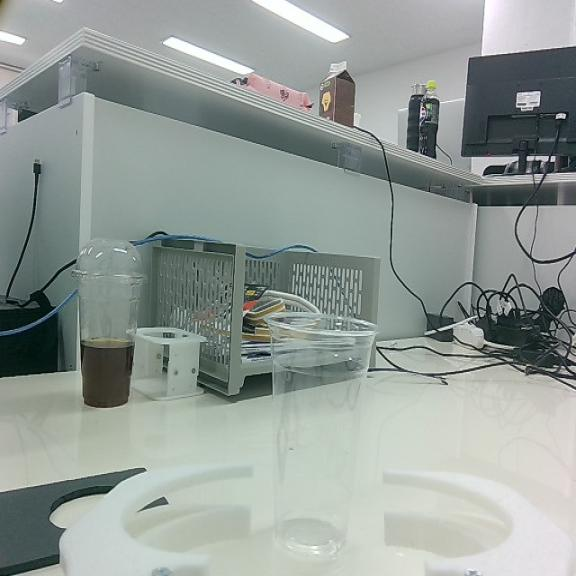Plastik: (268, 315, 378, 556)
